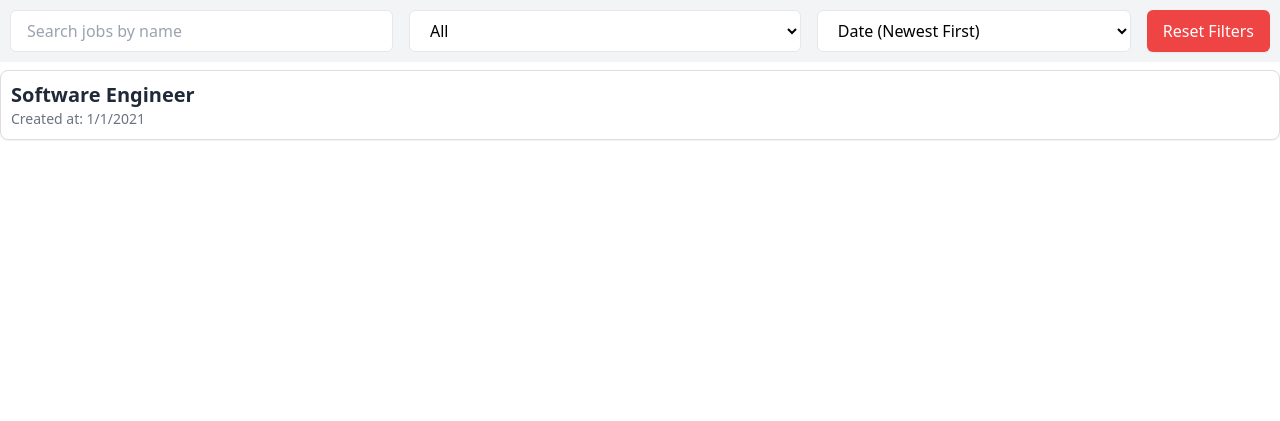
Scenario: App Component › expands and collapses job details on click
Click the heading "Software Engineer" at x=103, y=94, box [11, 81, 195, 108]
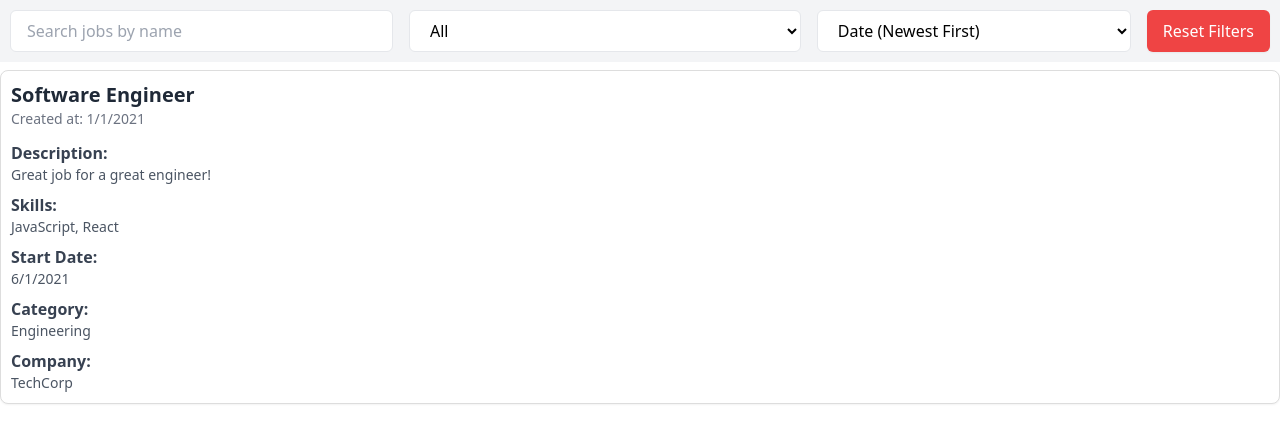
Check: the heading "Description:" is shown, box [11, 142, 108, 164]
Click the heading "Software Engineer" at x=103, y=94, box [11, 81, 195, 108]
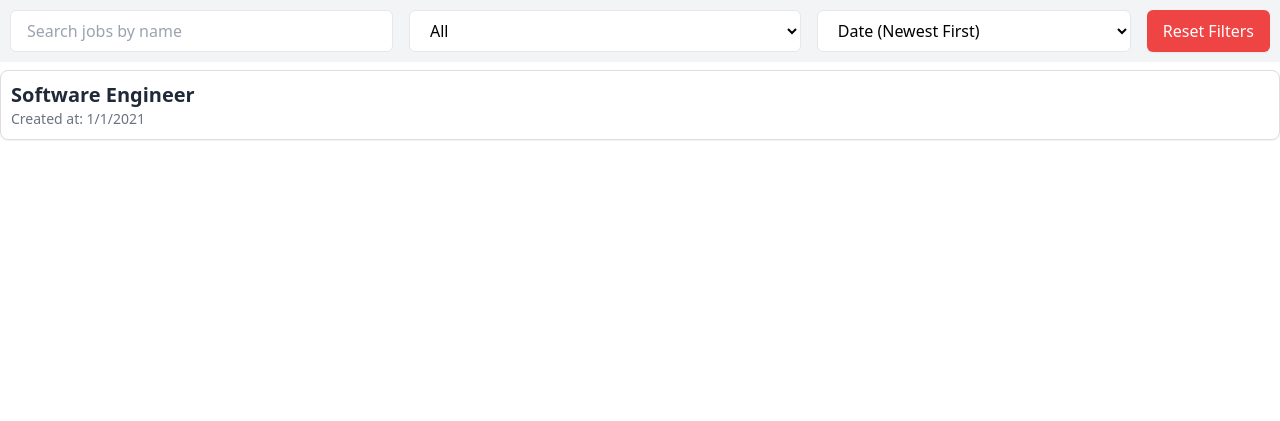
Check: the text "Great job for a great engineer!" is gone
Note: If the text changes after expanding/collapsing and you need to click again,
Click the heading "Software Engineer" at x=103, y=94, box [11, 81, 195, 108]
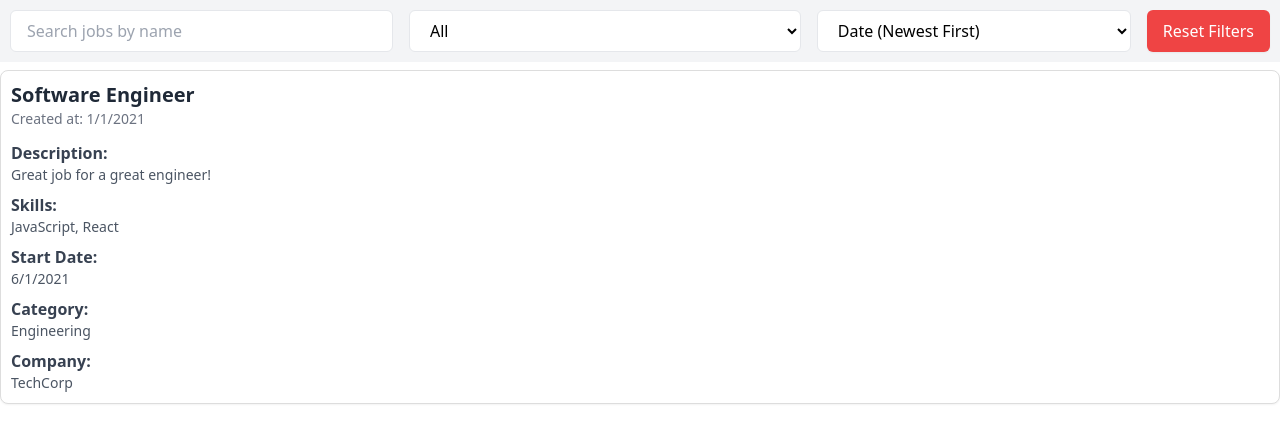
Check: the heading "Description:" is shown, box [11, 142, 108, 164]
